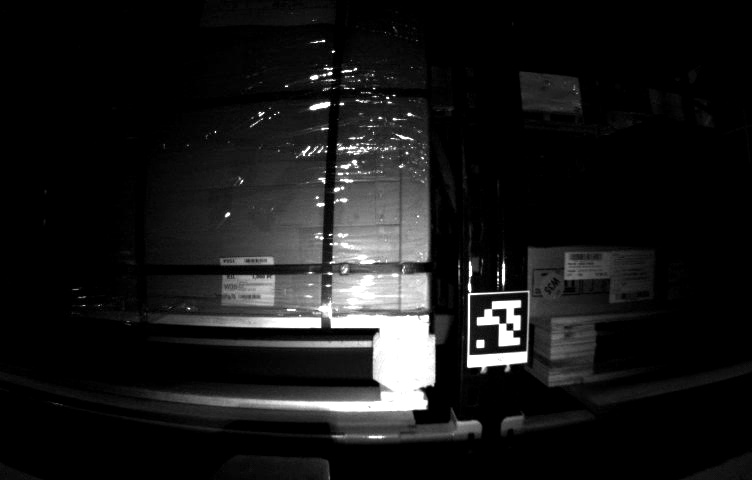True Barcode: (218, 256, 275, 305)
